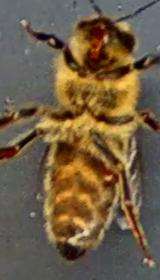varroa_mite: (92, 158, 124, 191)
